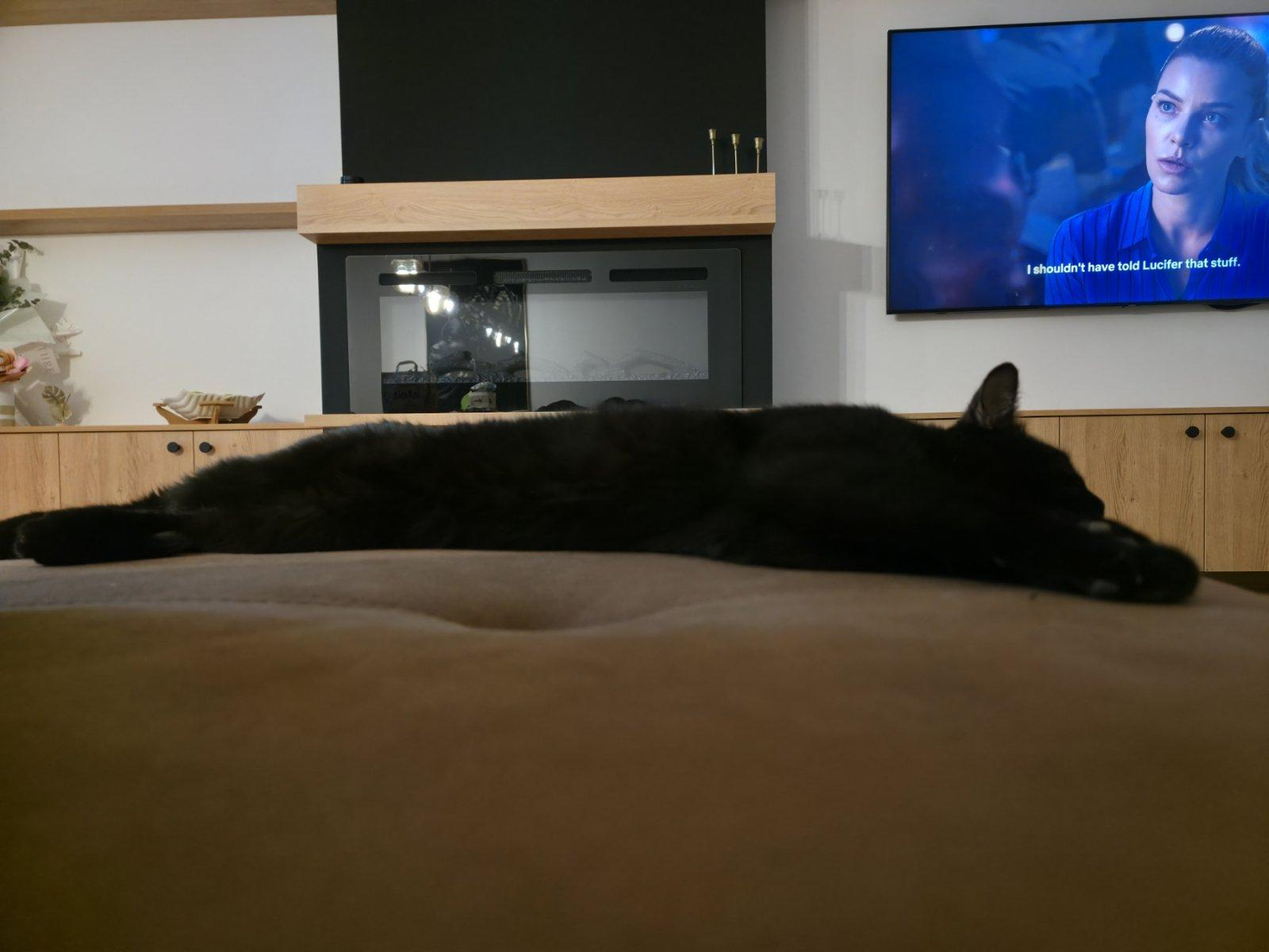macka: (0, 358, 1202, 606)
